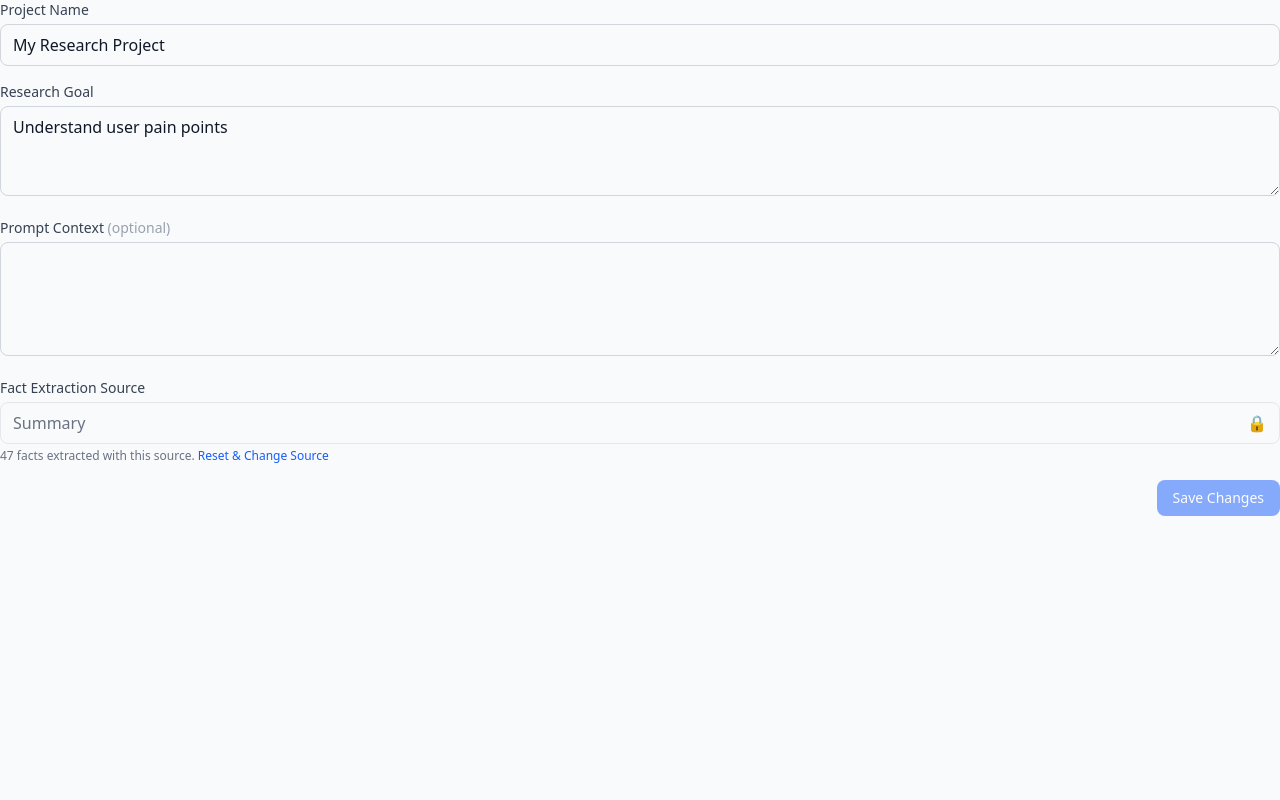
Test: SettingsForm (AC-8, AC-9) › AC-8: should open ResetSourceModal when reset link is clicked
Click the button with test id "reset-source-link": click(263, 456) [198,448,329,464]
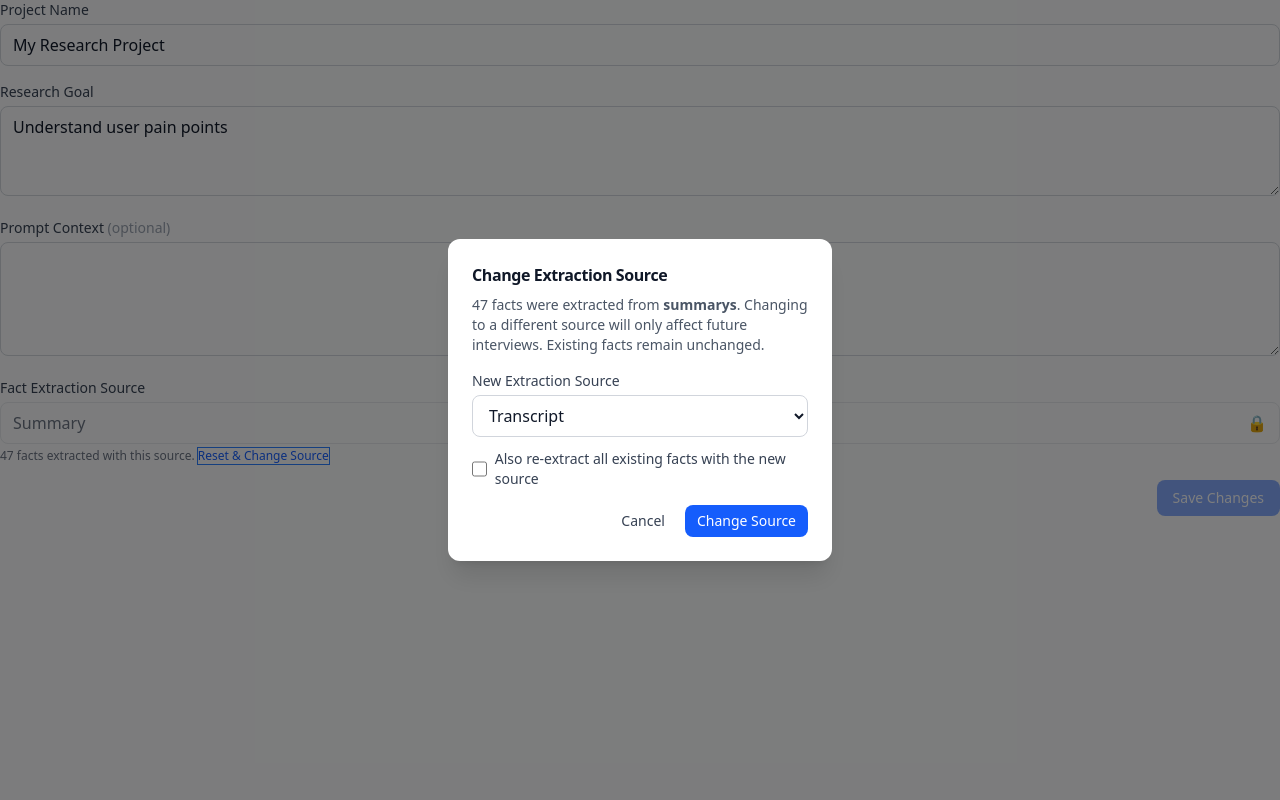
Expected: the element with test id "reset-source-modal" is shown
